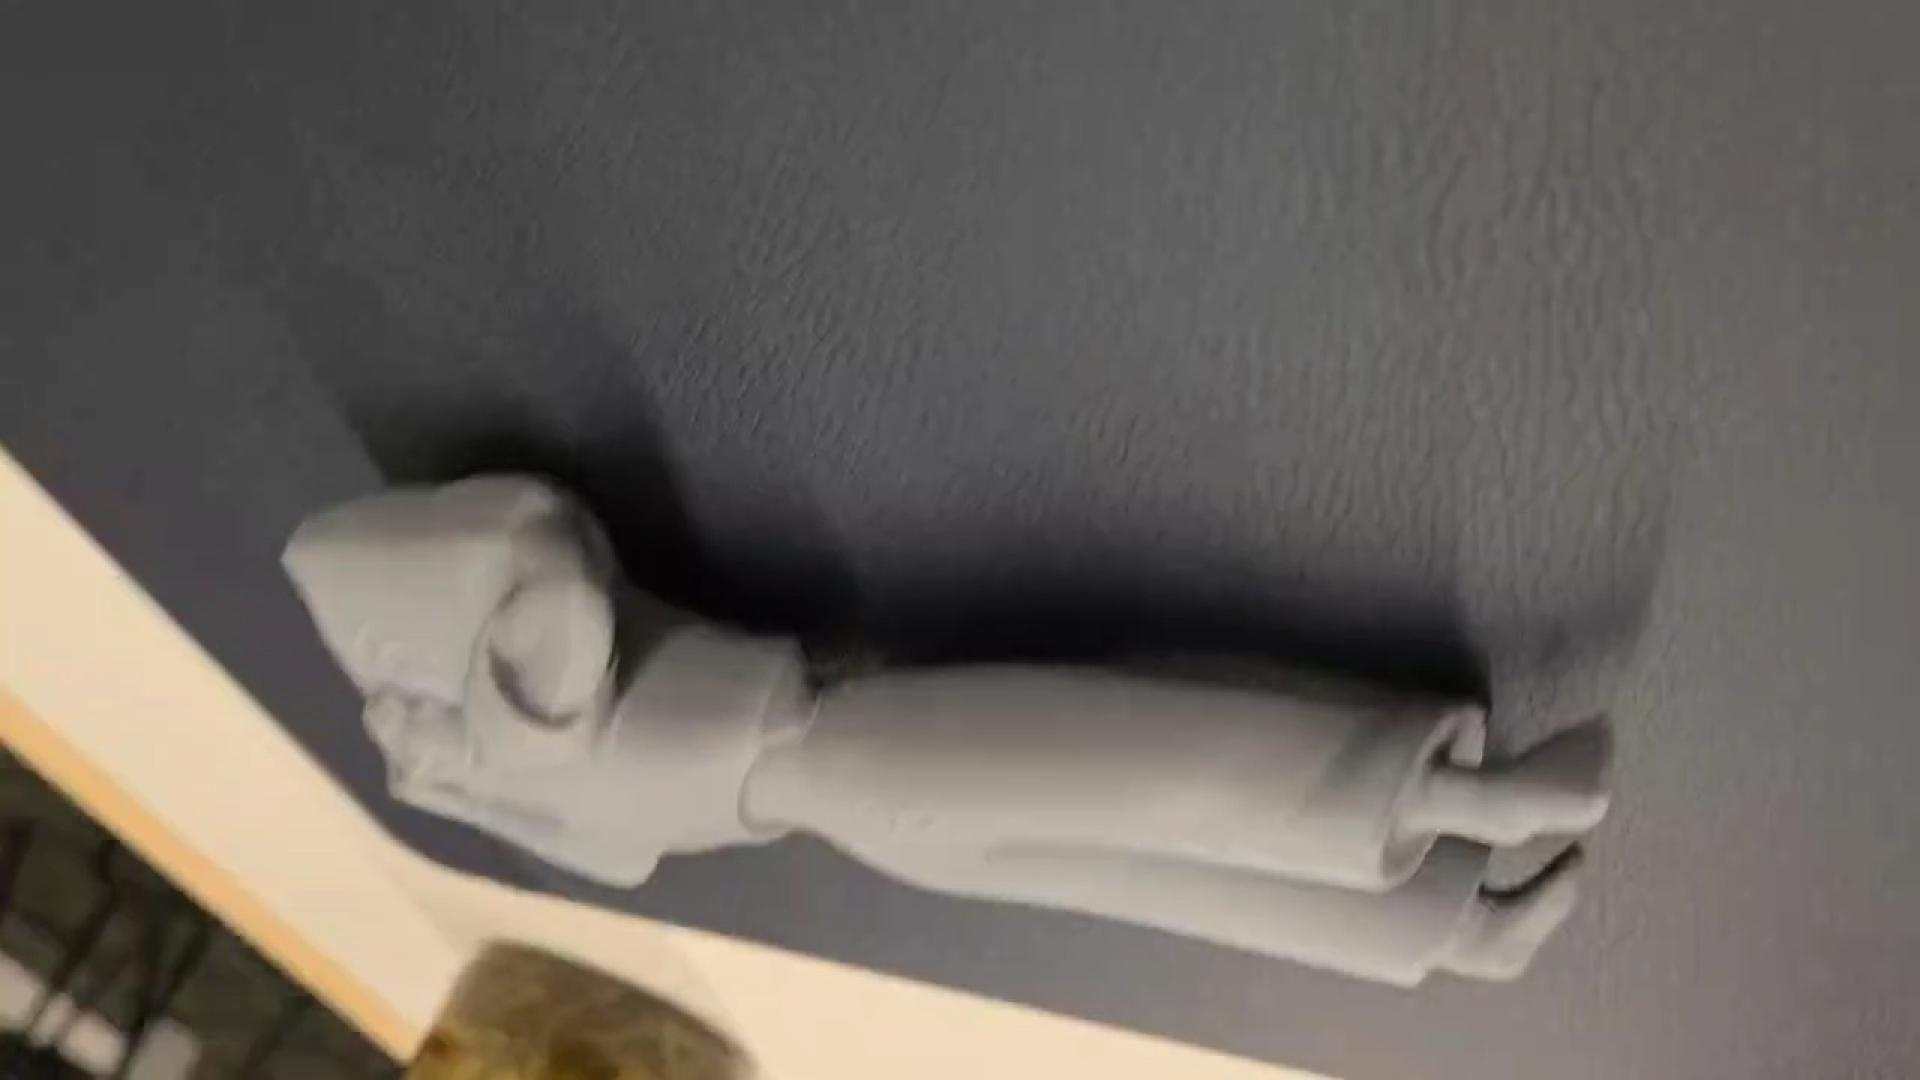Bad-style: (280, 477, 1610, 986)
